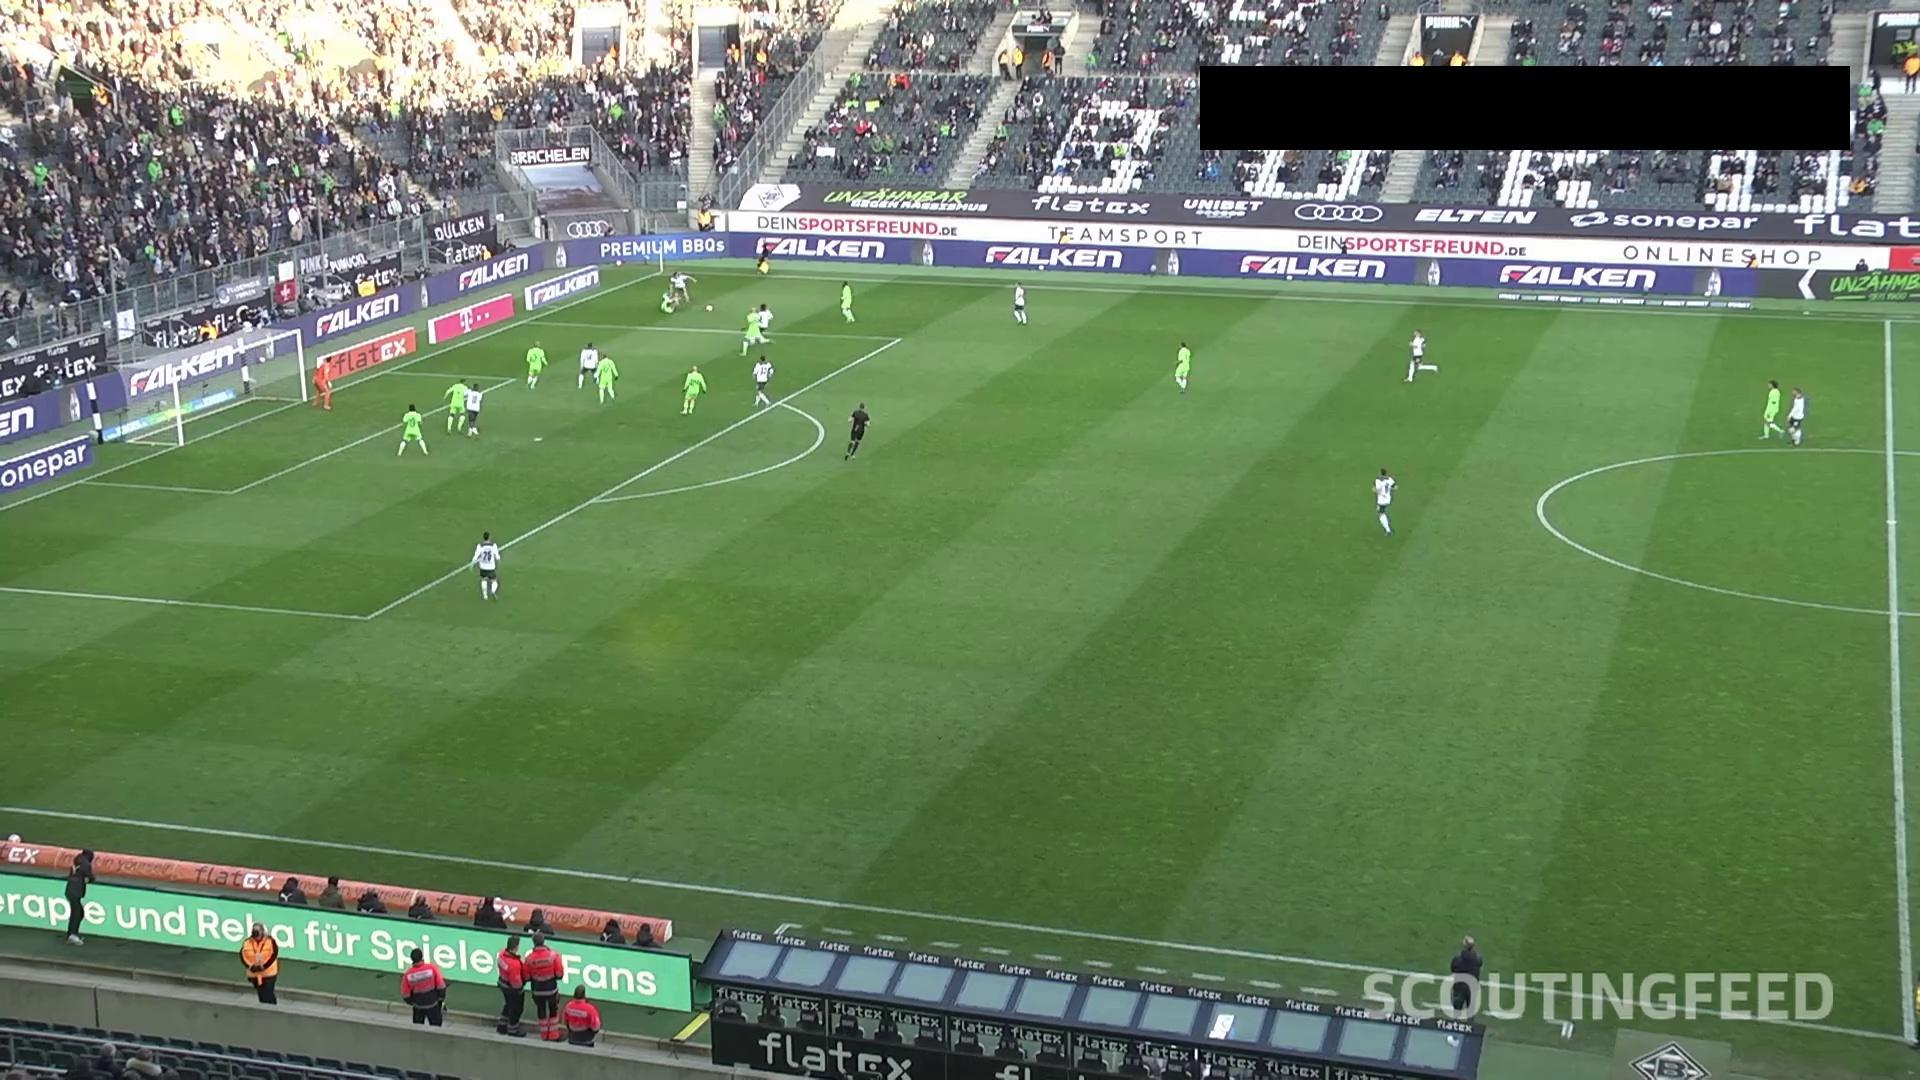Location-of-ball: (704, 298, 719, 316)
